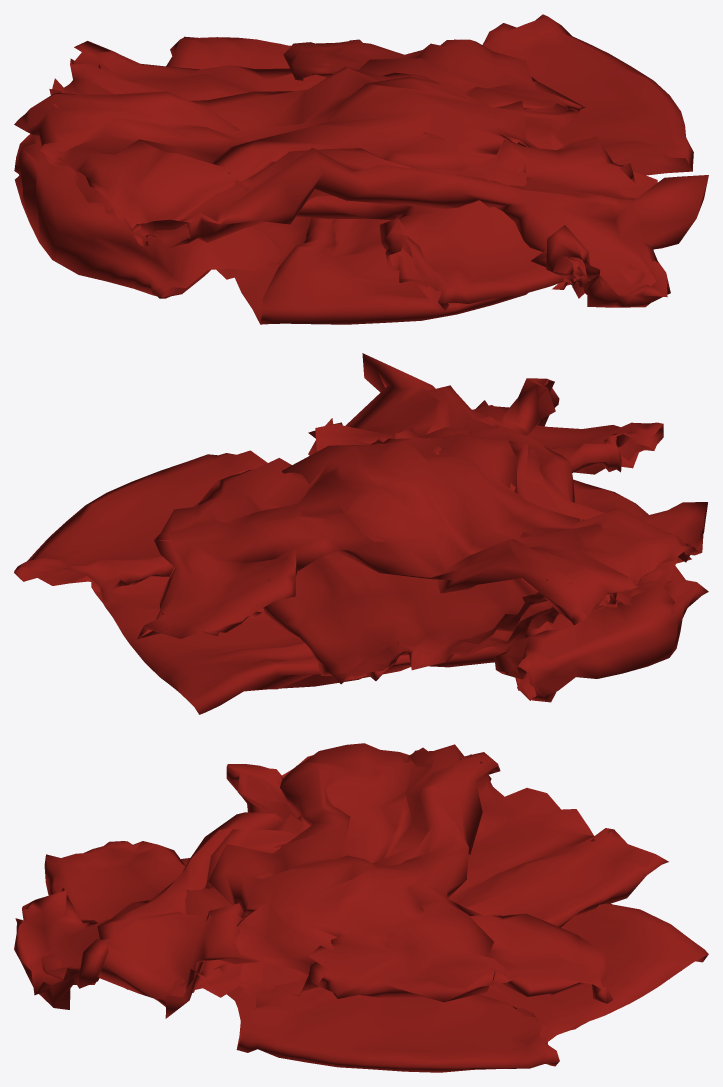
File: shirt_pile.fbx
The picture shows the model from 3 angles, top to bottom: view 1: azimuth 30°, elevation 25°; view 2: azimuth 150°, elevation 25°; view 3: azimuth 270°, elevation 25°; orthographic projection. The views are drawn at different scales.
Parts seen in each view (by area): view 1: Plane.011, Plane.010, Plane.008; view 2: Plane.011, Plane.010, Plane.008; view 3: Plane.011, Plane.010, Plane.008.
Boxes of the visible parts, x1,y1,x2,y2 form: Plane.011: (14,39,708,307); Plane.010: (40,14,693,310); Plane.008: (14,36,528,324); Plane.011: (137,353,707,638); Plane.010: (14,422,663,684); Plane.008: (91,479,708,714); Plane.011: (14,743,612,1018); Plane.010: (44,754,668,1072); Plane.008: (127,858,708,1041).
Size of the model in its own units: 67.03 by 12.26 by 74.96.
